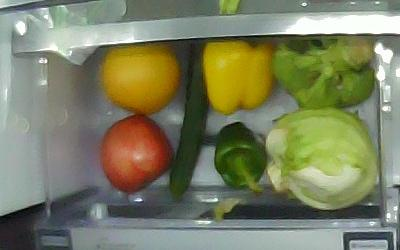apple: (101, 115, 174, 194)
broccoli: (271, 37, 375, 108)
cucumber: (170, 42, 209, 202)
grapefruit: (102, 42, 181, 114)
lettuce: (266, 107, 378, 212)
paprika: (202, 39, 274, 113), (214, 122, 266, 196)
